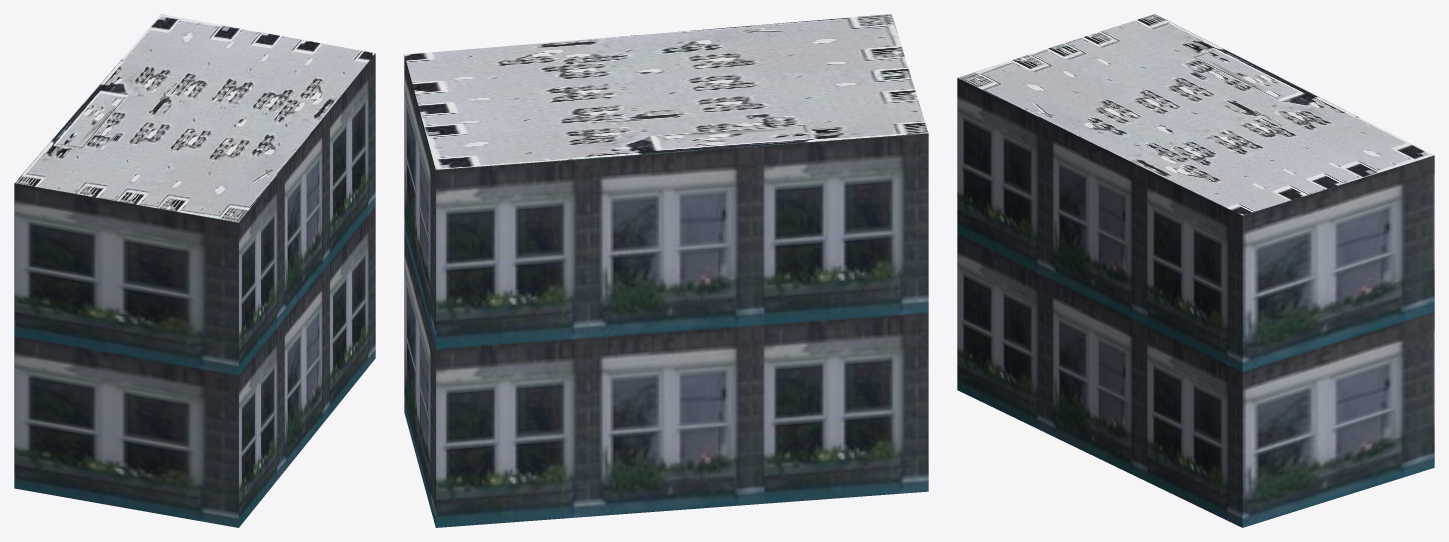
Rendered from ResTex__1462.fbx.
The picture shows the model from 3 angles, left to right: view 1: azimuth 30°, elevation 25°; view 2: azimuth 150°, elevation 25°; view 3: azimuth 270°, elevation 25°; orthographic projection. The views are drawn at different scales.
Parts seen in each view (by area): view 1: CityEngineMaterial_11_m, CityEngineMaterial_4_m; view 2: CityEngineMaterial_11_m, CityEngineMaterial_4_m; view 3: CityEngineMaterial_11_m, CityEngineMaterial_4_m.
Part boxes in pixels (x1,y1,x2,y2): CityEngineMaterial_11_m: [14, 53, 375, 527]; CityEngineMaterial_4_m: [15, 14, 374, 222]; CityEngineMaterial_11_m: [404, 55, 928, 527]; CityEngineMaterial_4_m: [404, 14, 928, 169]; CityEngineMaterial_11_m: [957, 78, 1434, 527]; CityEngineMaterial_4_m: [957, 14, 1433, 215].
Size of the model in its own units: 8.31 by 6 by 8.31.
Materials: 2 (2 with a texture image).
